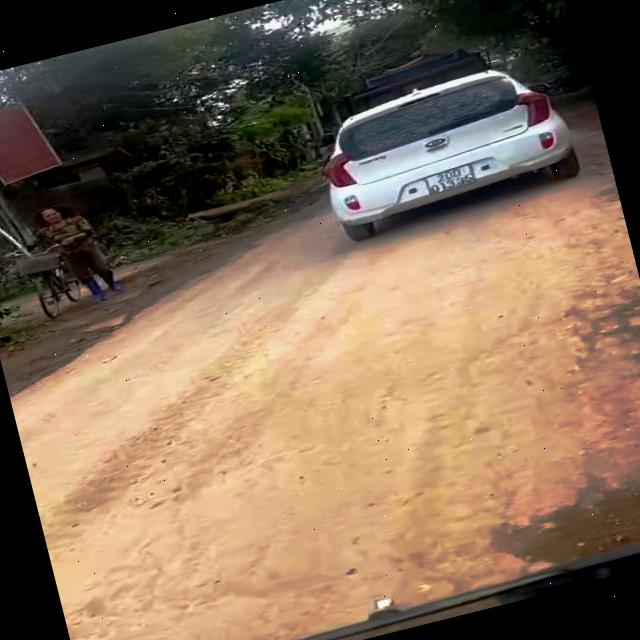pothole: (463, 457, 640, 595)
